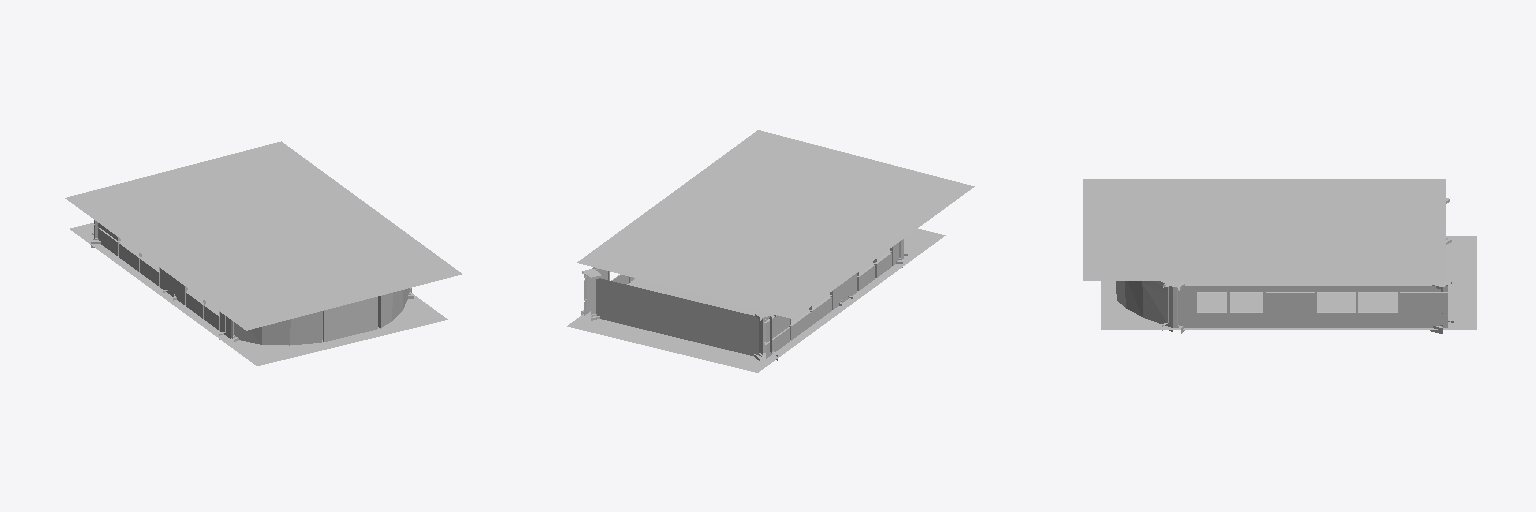
File: Roomupdated.obj
The picture shows the model from 3 angles: view 1: azimuth 30°, elevation 25°; view 2: azimuth 150°, elevation 25°; view 3: azimuth 270°, elevation 25°; orthographic projection.
Parts seen in each view (by area): view 1: pPlane2, polySurface1 pCube4, pCube4 polySurface3, pCube4 polySurface4, pCube11, pCube5; view 2: pPlane2, pPlane1, polySurface1 pCube4, pCube4 polySurface4; view 3: pPlane2, polySurface1 pCube4, pCube4 polySurface2, pCube4 polySurface3.
Part boxes in pixels (left/top/right/bottom): pPlane2: left=65, top=141, right=461, bottom=330; polySurface1 pCube4: left=70, top=223, right=447, bottom=365; pCube4 polySurface3: left=231, top=288, right=408, bottom=345; pCube4 polySurface4: left=94, top=220, right=230, bottom=338; pCube11: left=323, top=304, right=350, bottom=341; pCube5: left=351, top=297, right=377, bottom=335; pPlane2: left=577, top=130, right=974, bottom=318; pPlane1: left=596, top=278, right=758, bottom=355; polySurface1 pCube4: left=567, top=229, right=945, bottom=372; pCube4 polySurface4: left=764, top=239, right=903, bottom=358; pPlane2: left=1083, top=179, right=1445, bottom=280; polySurface1 pCube4: left=1101, top=236, right=1476, bottom=329; pCube4 polySurface2: left=1173, top=286, right=1447, bottom=327; pCube4 polySurface3: left=1116, top=281, right=1172, bottom=331.
Bounding box in the file's own units: 194 × 46.9 × 305.